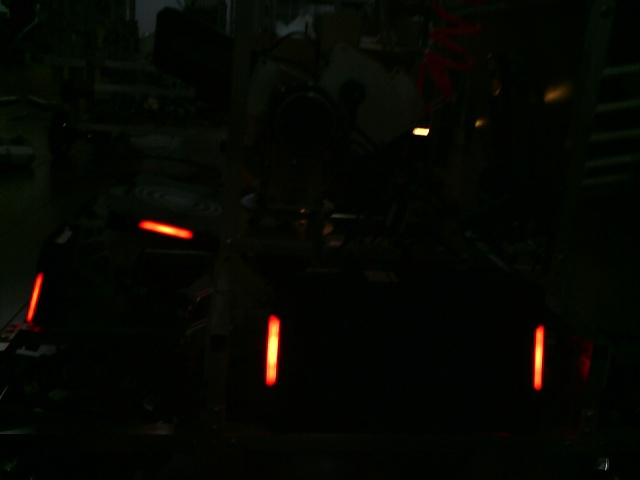lamp: (259, 316, 285, 393), (533, 324, 547, 398), (26, 270, 43, 326)
